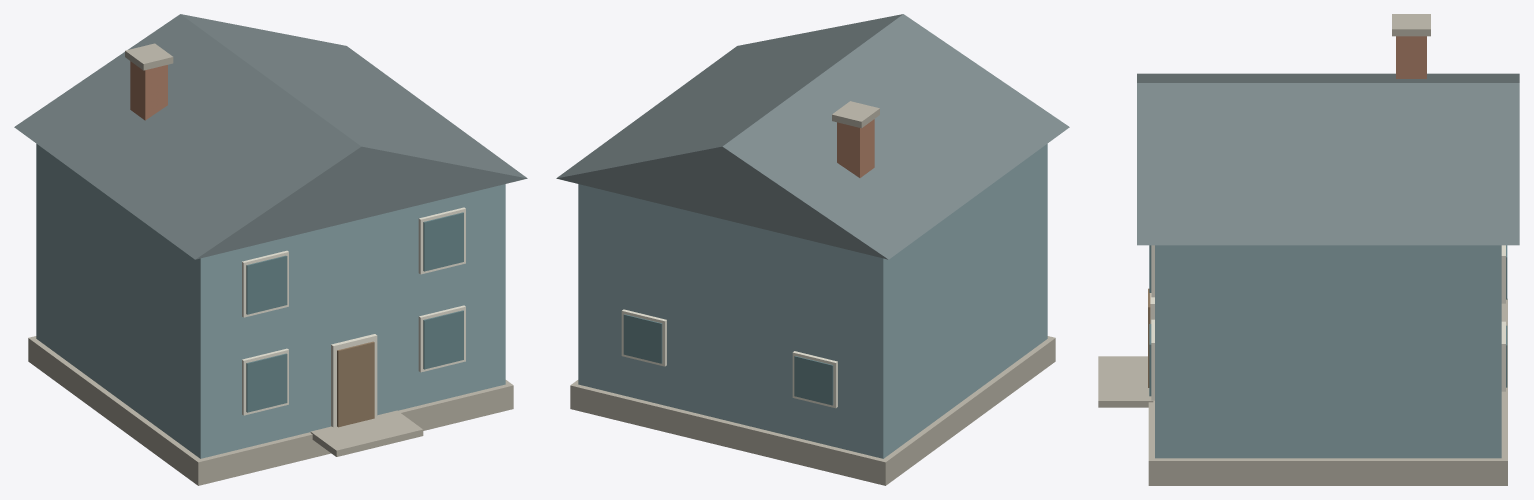
3 views of the same model, side by side, from view 1: azimuth 30°, elevation 25°; view 2: azimuth 150°, elevation 25°; view 3: azimuth 270°, elevation 25° (orthographic). The views are drawn at different scales.
Bounding box in the file's own units: 9.6 × 8.9 × 9.97.
